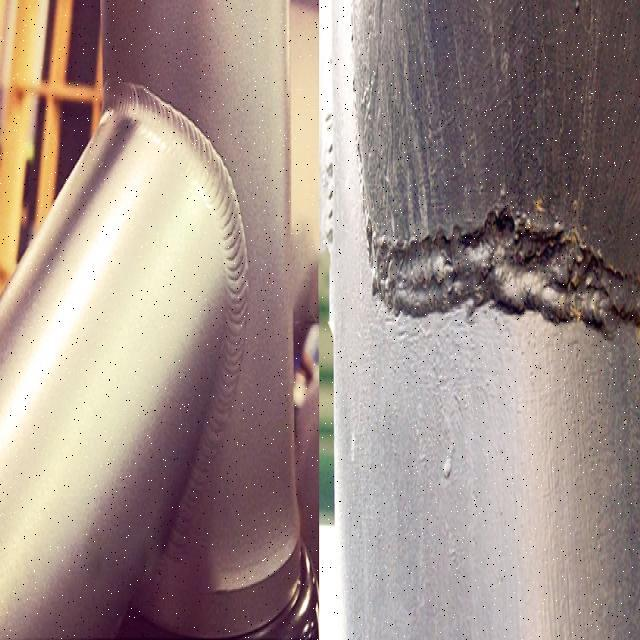Bad Welding: (368, 214, 640, 335)
Good Welding: (102, 82, 248, 549)
